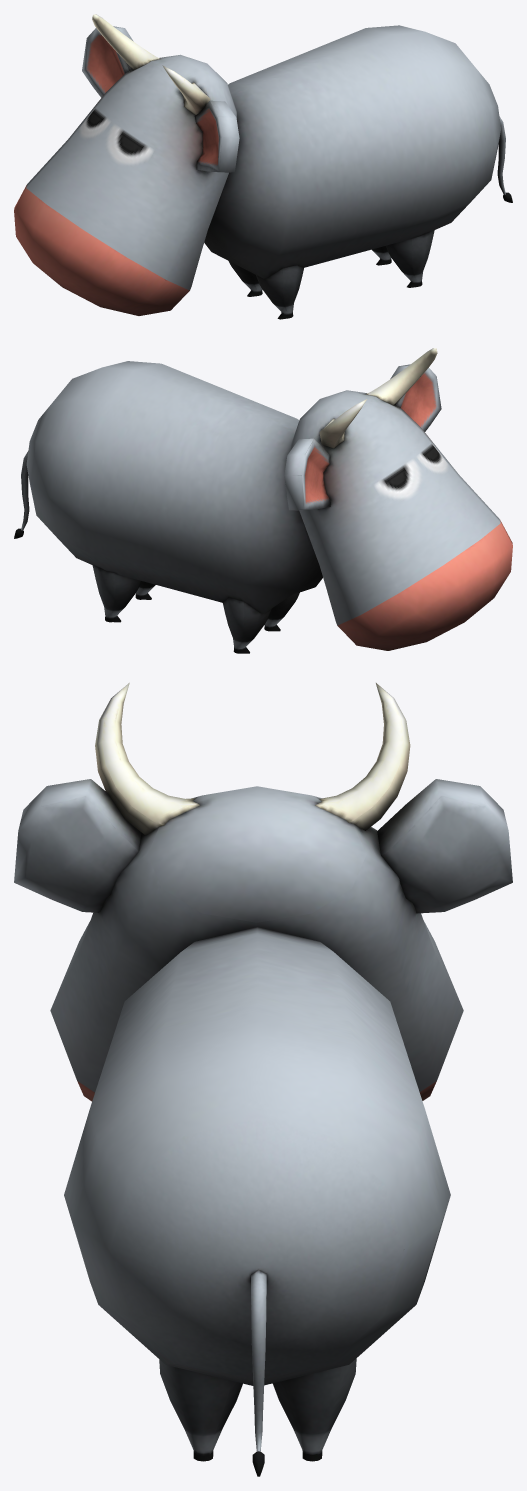
File: mucca.FBX
3 views of the same model, one above another, from view 1: azimuth 30°, elevation 25°; view 2: azimuth 150°, elevation 25°; view 3: azimuth 270°, elevation 25° (orthographic). The views are drawn at different scales.
Parts seen in each view (by area): view 1: mucca; view 2: mucca; view 3: mucca.
Part boxes in pixels (bbox=[...]): mucca: bbox=[14, 14, 512, 319]; mucca: bbox=[14, 348, 512, 653]; mucca: bbox=[14, 682, 512, 1476].
Size of the model in its own units: 20.67 by 12.37 by 10.43.
